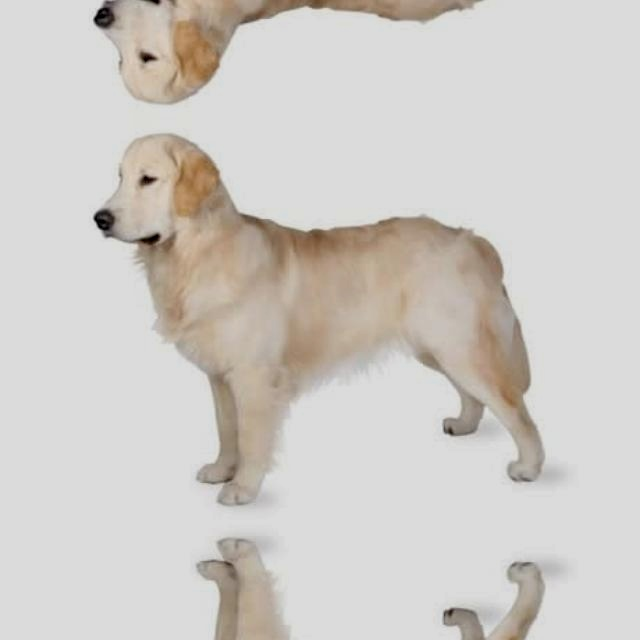dog: (88, 125, 623, 508), (88, 0, 623, 111), (88, 534, 623, 640)
